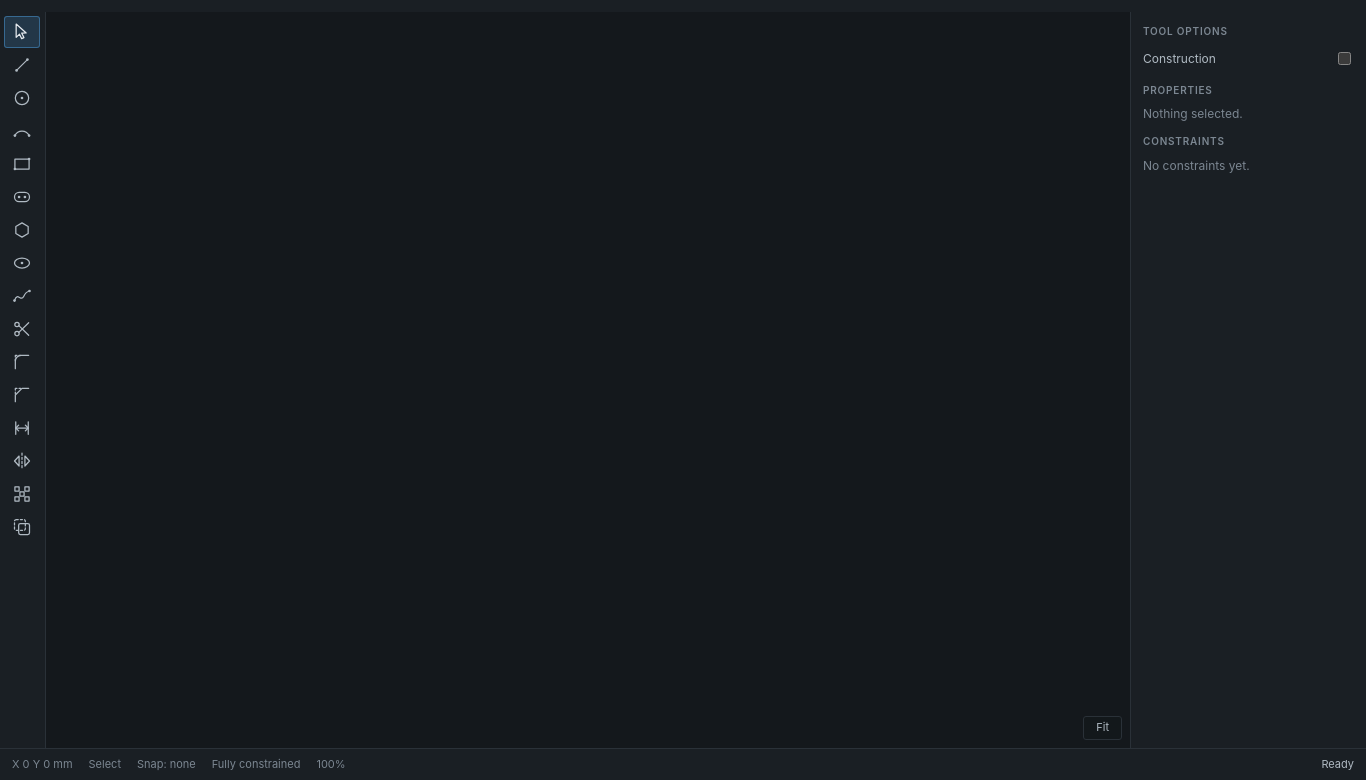
Scenario: undo and redo › undoes and redoes a drawing operation
Click the button named "Circle": {"x": 22, "y": 98} [4,82,40,114]
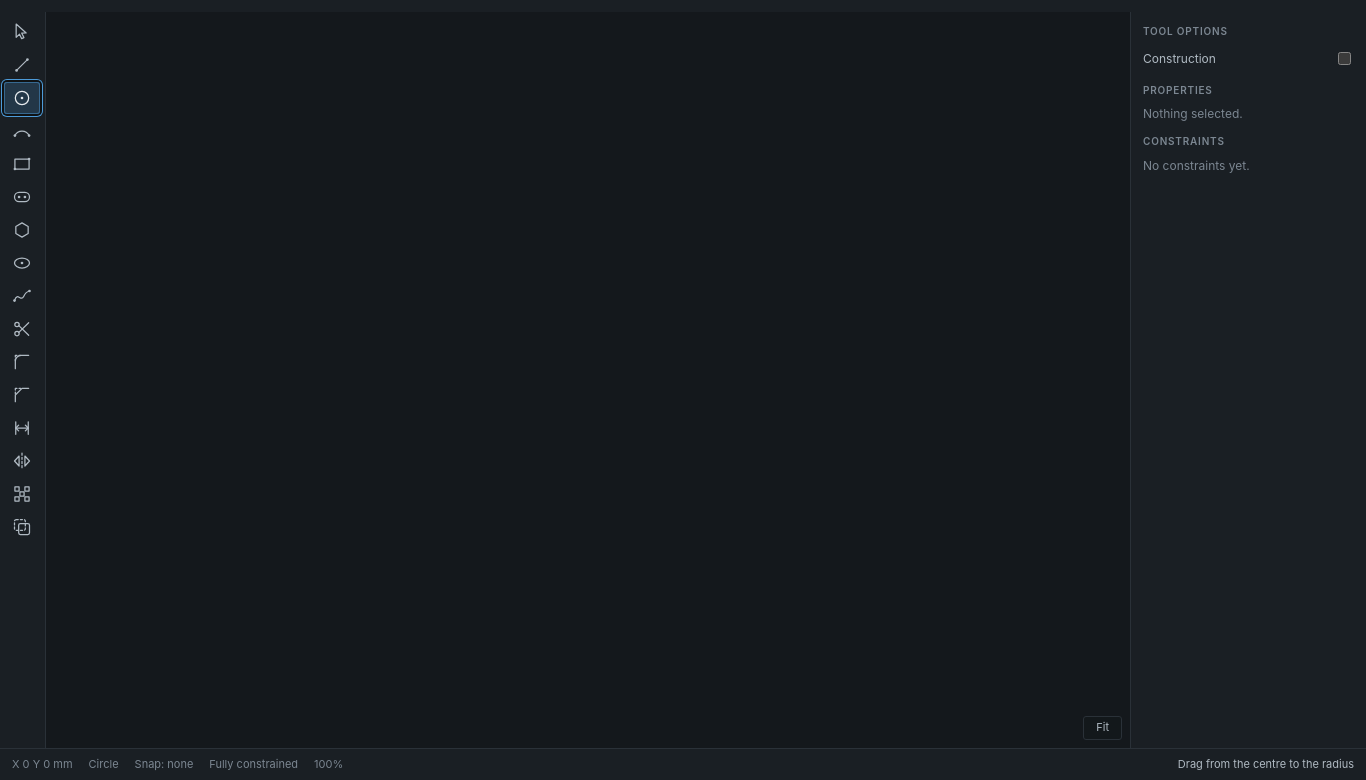
Press the mouse on the drawing with test id "sketch-canvas": {"x": 588, "y": 380} [46,12,1130,748]
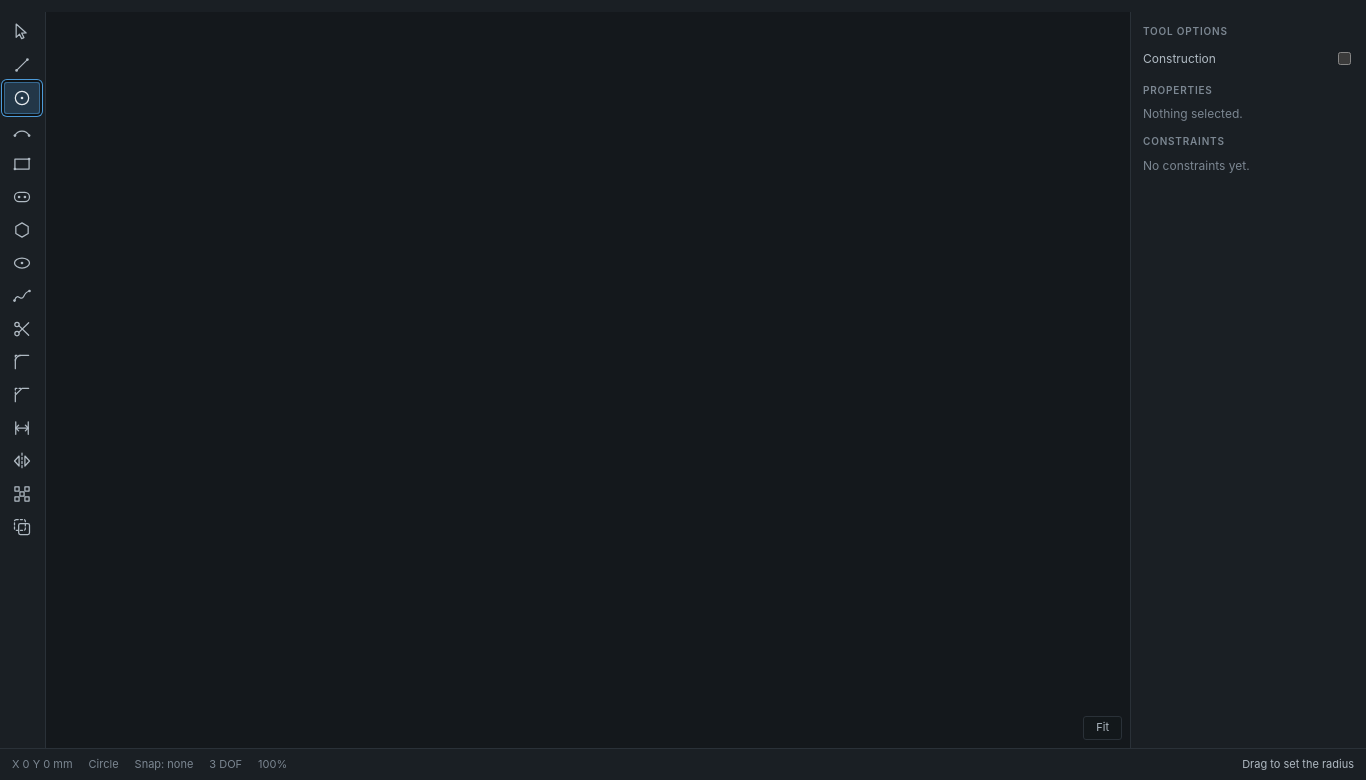
Press z
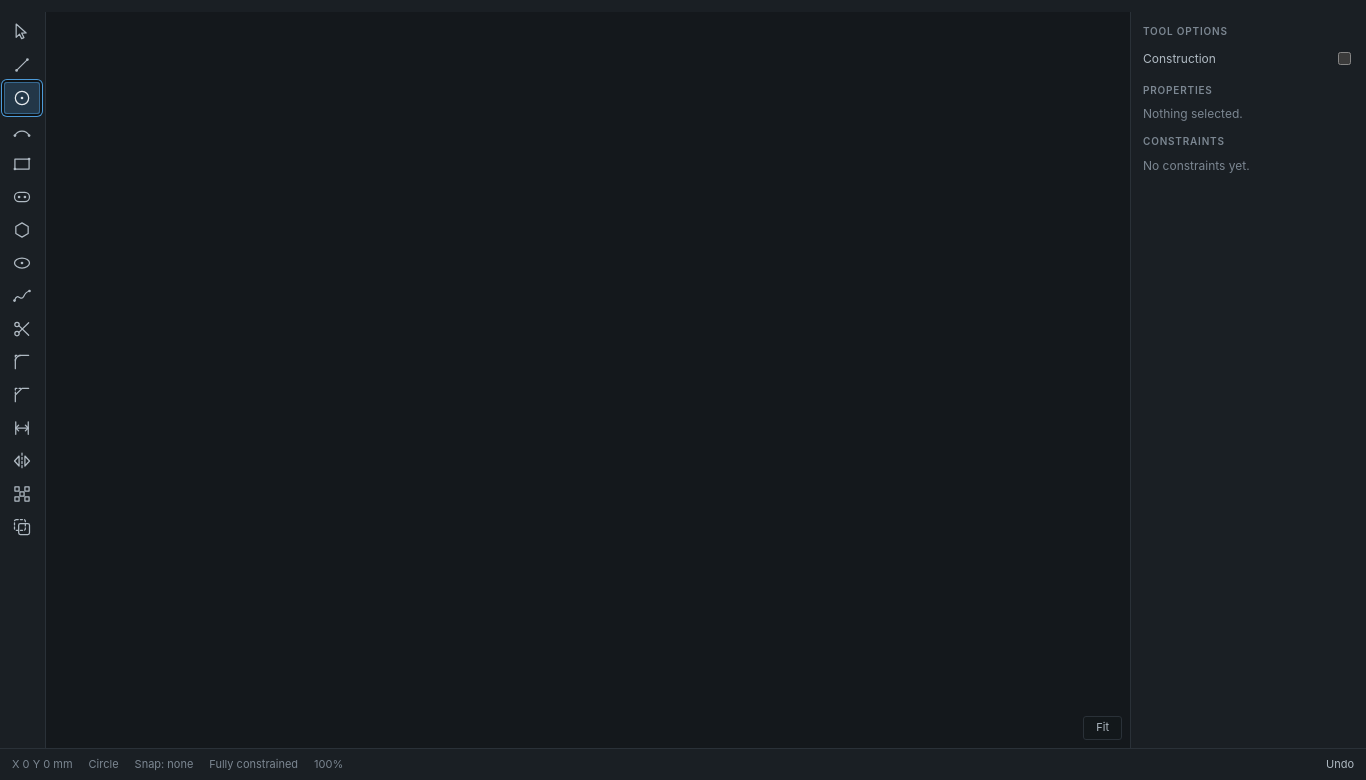
Expected: the text "Undo" is shown, [1326,756,1354,772]
Press z
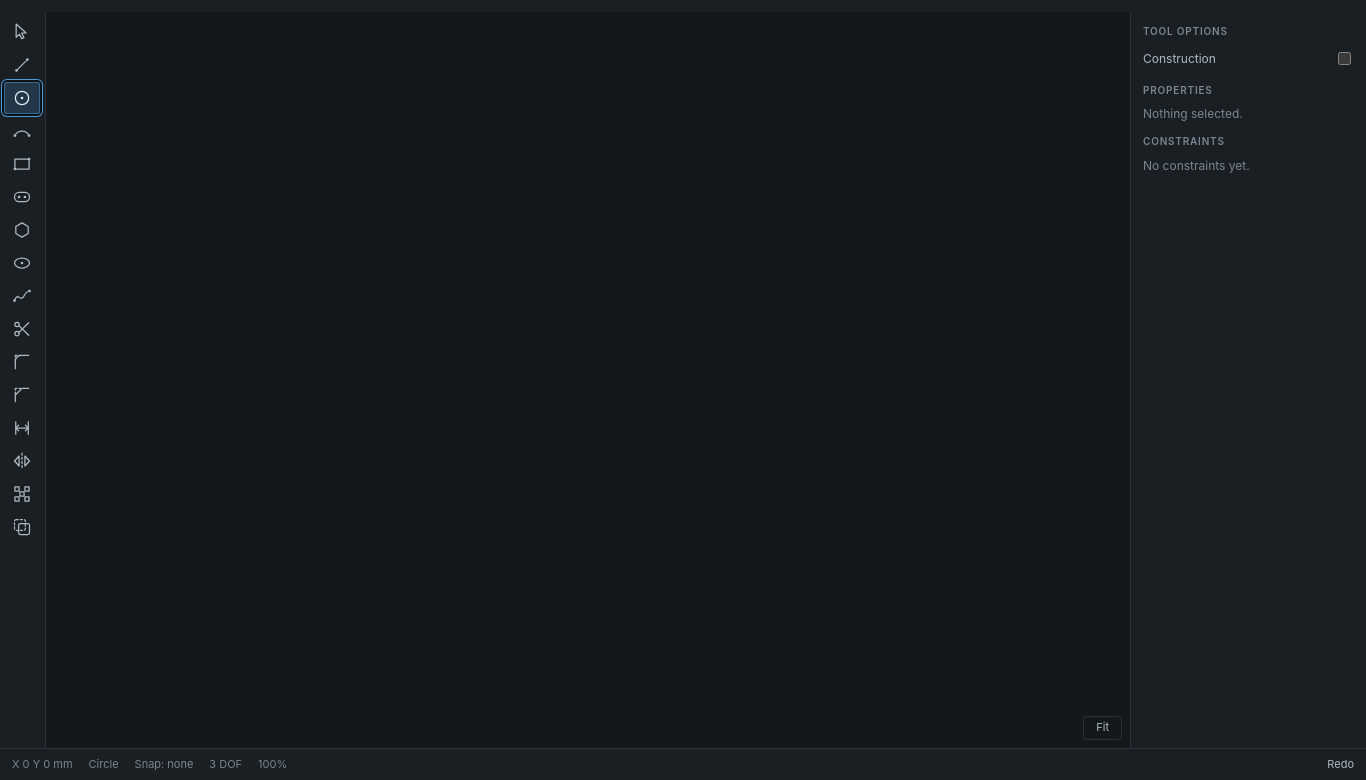
Expected: the text "Redo" is shown, [1327,756,1354,772]
